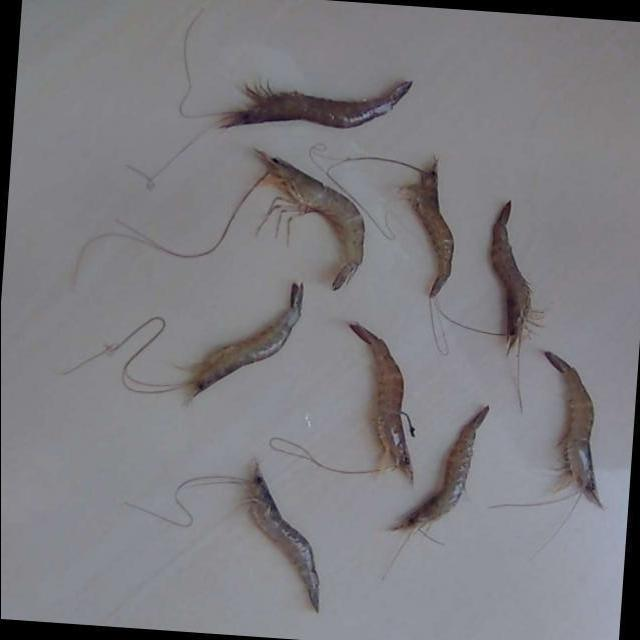shrimp: (256, 149, 364, 289), (186, 284, 302, 402), (390, 405, 488, 531), (250, 464, 319, 613), (350, 322, 413, 482), (545, 351, 604, 509), (219, 81, 412, 126), (407, 159, 454, 297), (492, 200, 532, 350)
